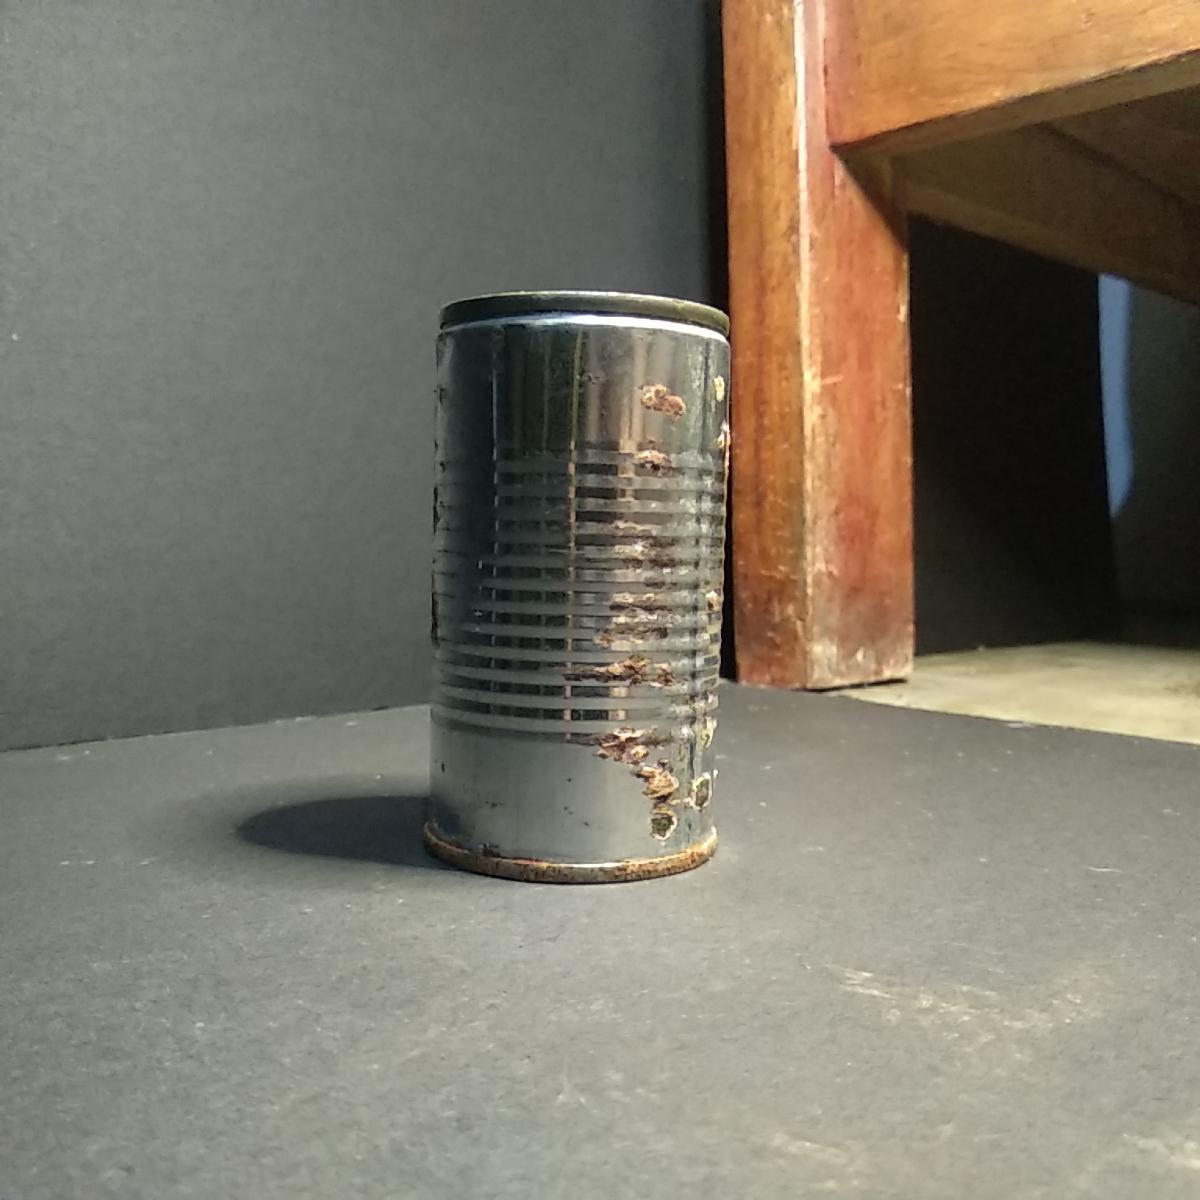Rusted: (412, 273, 740, 896)
